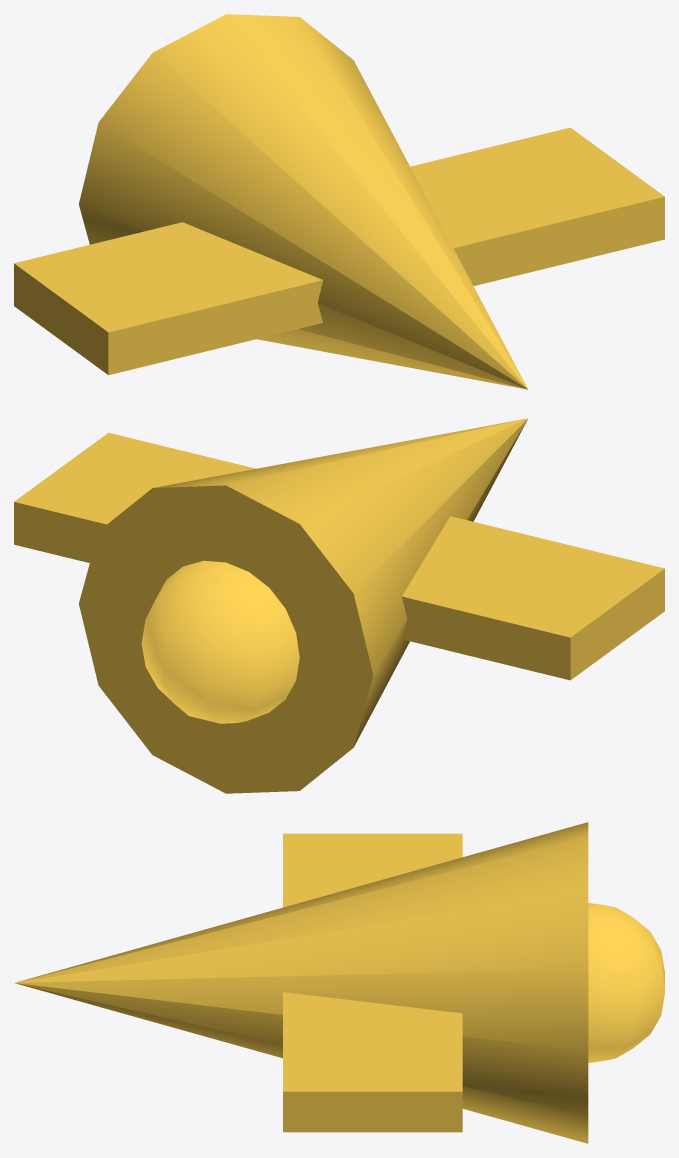
The model's file is rocketeer.glb.
3 renders of one model, top to bottom at view 1: azimuth 30°, elevation 25°; view 2: azimuth 150°, elevation 25°; view 3: azimuth 270°, elevation 25°, orthographic. The views are drawn at different scales.
Size of the model in its own units: 3.4 by 1.8 by 3.63.
